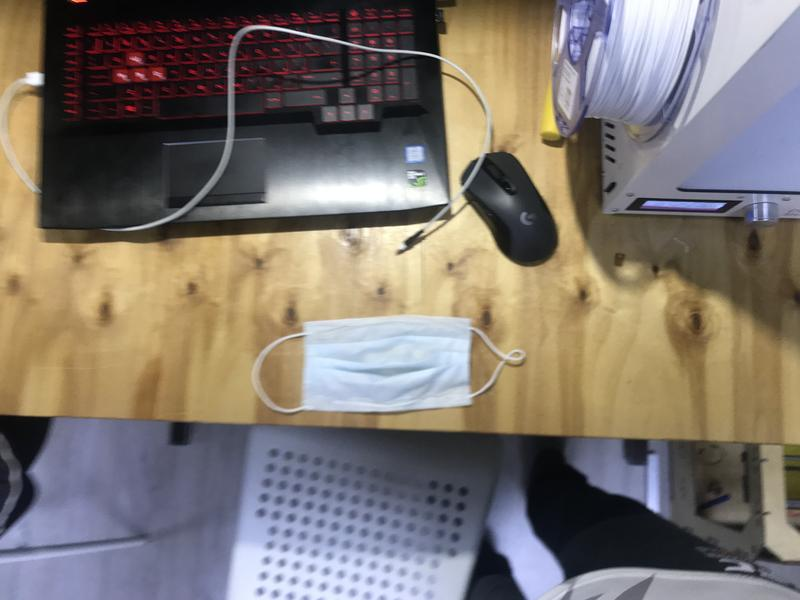medical_mask: (251, 316, 524, 414)
